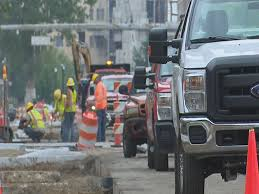barrel: (76, 112, 98, 148)
